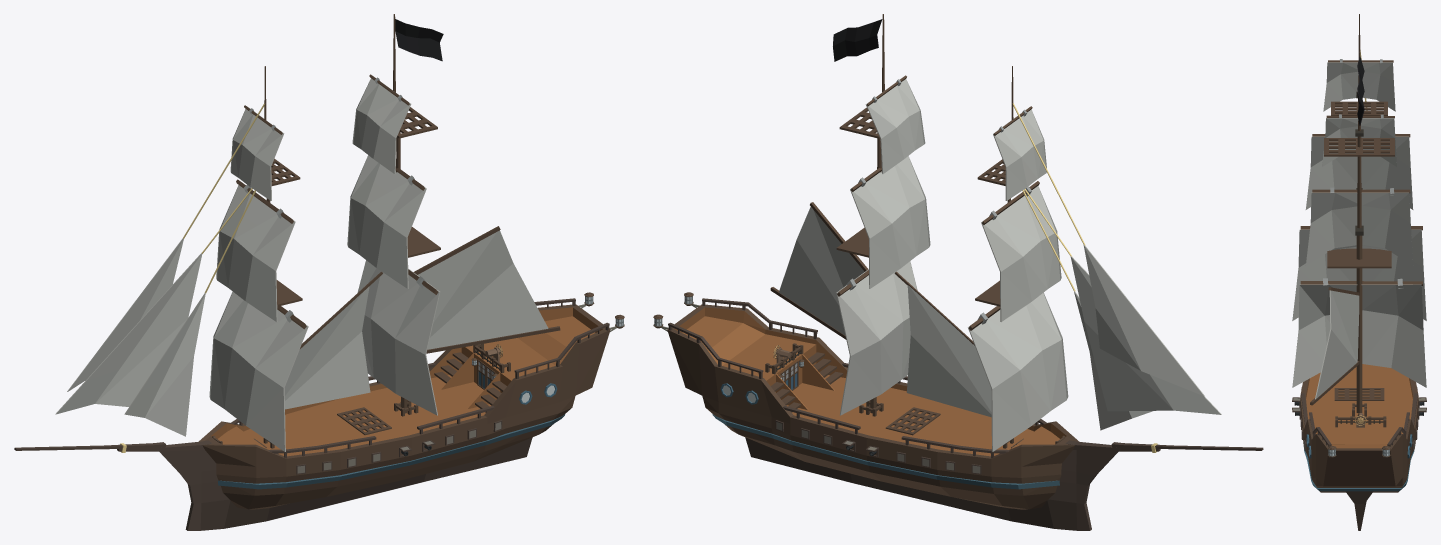
The model's file is bigship.obj.
The picture shows the model from 3 angles, left to right: view 1: azimuth 30°, elevation 25°; view 2: azimuth 150°, elevation 25°; view 3: azimuth 270°, elevation 25°; orthographic projection. The views are drawn at different scales.
Visible parts, largest first — view 1: Sail, Body, Mast; view 2: Sail, Body, Mast; view 3: Sail, Body, Mast.
Boxes of the visible parts, bbox=[...] form: Sail: bbox=[55, 19, 548, 451]; Body: bbox=[14, 292, 624, 530]; Mast: bbox=[183, 14, 560, 413]; Sail: bbox=[779, 19, 1221, 451]; Body: bbox=[653, 292, 1263, 530]; Mast: bbox=[770, 14, 1085, 413]; Sail: bbox=[1292, 56, 1426, 399]; Body: bbox=[1292, 364, 1426, 530]; Mast: bbox=[1300, 14, 1422, 413].
Size of the model in its own units: 663 by 506 by 147.
1 material, 1 textured.
